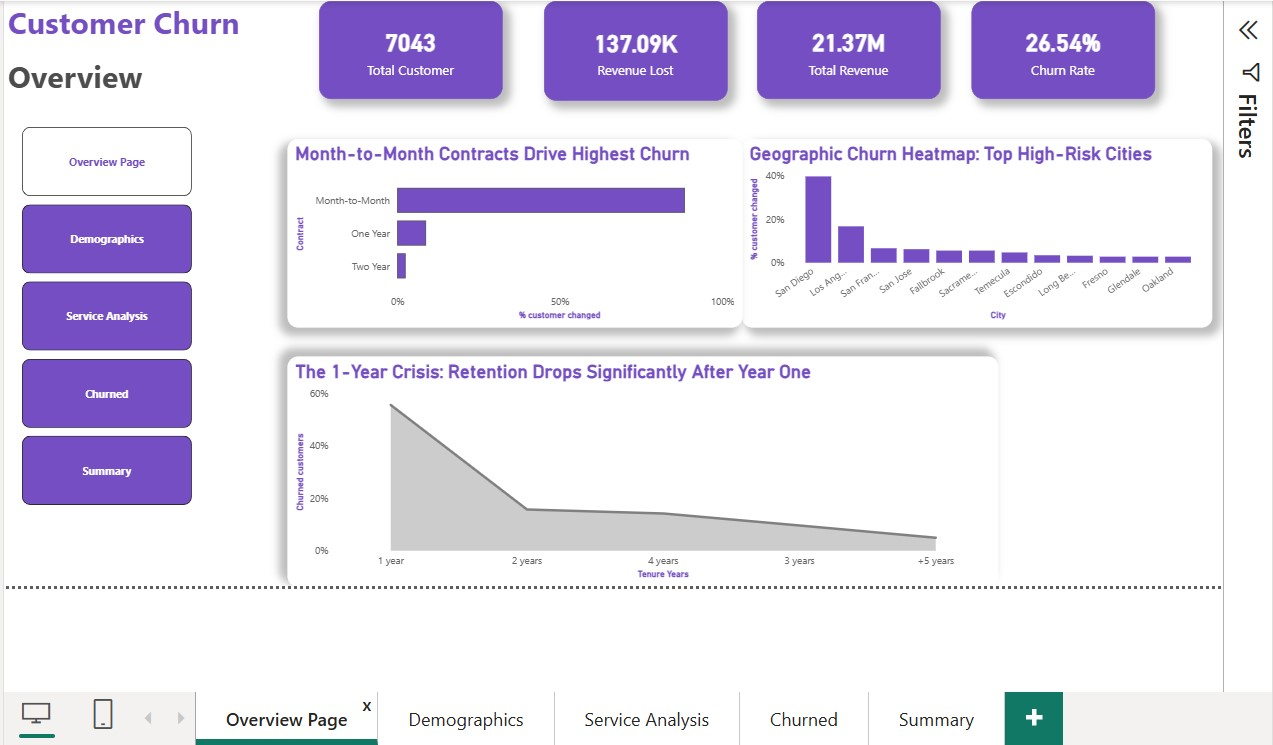

This screenshot's page, from the dashboard's own definition file:
{"tool":"powerbi","page":{"name":"Overview Page","canvas":[1500,720],"ordinal":0},"visuals":[{"type":"textbox","box":[0,0,313.9,137.7],"z":0},{"type":"card","fields":{"Values":["Measure_Table.#customer"]},"box":[388.1,0,225.9,120.9],"z":1000},{"type":"card","fields":{"Values":["Measure_Table.churn%"]},"box":[1189.8,0,225.9,120.9],"z":2000},{"type":"card","fields":{"Values":["Measure_Table.Total Revenue"]},"box":[925.7,0,225.9,120.9],"z":3000},{"type":"card","fields":{"Values":["Sum(telecom_customer_churn.Monthly Charge)"]},"box":[664.9,0,225.9,122.5],"z":4000},{"type":"areaChart","title":"The 1-Year Crisis: Retention Drops Significantly After Year One","fields":{"Category":["telecom_customer_churn.Tenure Group (Years)"],"Y":["Measure_Table.% customer changed"]},"box":[348.3,437.4,874.8,283.1],"z":5000},{"type":"columnChart","title":"Geographic Churn Heatmap: Top High-Risk Cities","fields":{"Category":["telecom_customer_churn.City"],"Y":["Measure_Table.% customer changed"]},"box":[908.2,170.2,579,232.2],"z":6000},{"type":"barChart","title":"Month-to-Month Contracts Drive Highest Churn","fields":{"Category":["telecom_customer_churn.Contract"],"Y":["Measure_Table.%Customers by Contract"]},"box":[348.3,170.2,559.9,232.2],"z":7000},{"type":"pageNavigator","box":[22,155,209,466],"z":8000}]}

Visuals, with their boxes on the page's 1500x720 design canvas (x1, y1, x2, y2). These are canvas units, not pixel positions in the 1273x745 screenshot, which may show the page scaled, cropped or inside an application window:
textbox: x1=0, y1=0, x2=314, y2=138
card - Measure_Table.#customer: x1=388, y1=0, x2=614, y2=121
card - Measure_Table.churn%: x1=1190, y1=0, x2=1416, y2=121
card - Measure_Table.Total Revenue: x1=926, y1=0, x2=1152, y2=121
card - Sum(telecom_customer_churn.Monthly Charge): x1=665, y1=0, x2=891, y2=122
"The 1-Year Crisis: Retention Drops Significantly After Year One" areaChart: x1=348, y1=437, x2=1223, y2=720
"Geographic Churn Heatmap: Top High-Risk Cities" columnChart: x1=908, y1=170, x2=1487, y2=402
"Month-to-Month Contracts Drive Highest Churn" barChart: x1=348, y1=170, x2=908, y2=402
pageNavigator: x1=22, y1=155, x2=231, y2=621
